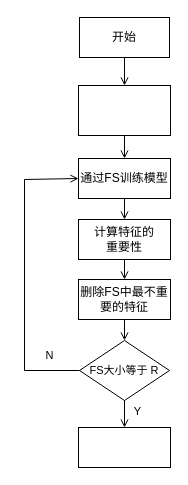
The diagram is 188 pixels wide and 485 high, and some of its shapes have lost their labels. Here are the shapes that lost their labels. From the top down, the box of each, then its label:
(78, 84, 170, 136): 特征集合FS和 选择的特征 数量 R
(78, 426, 170, 468): FS为选择的特征
